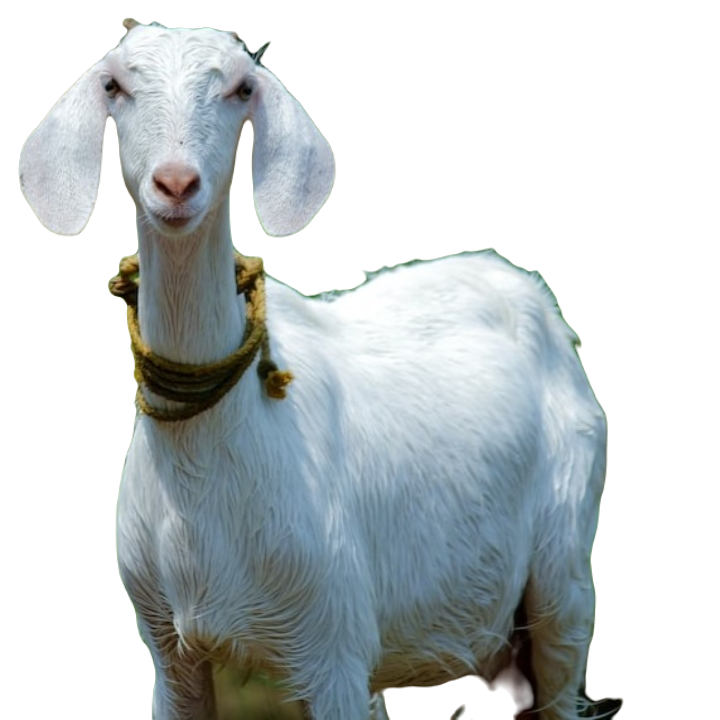Goat: (19, 18, 607, 719)
